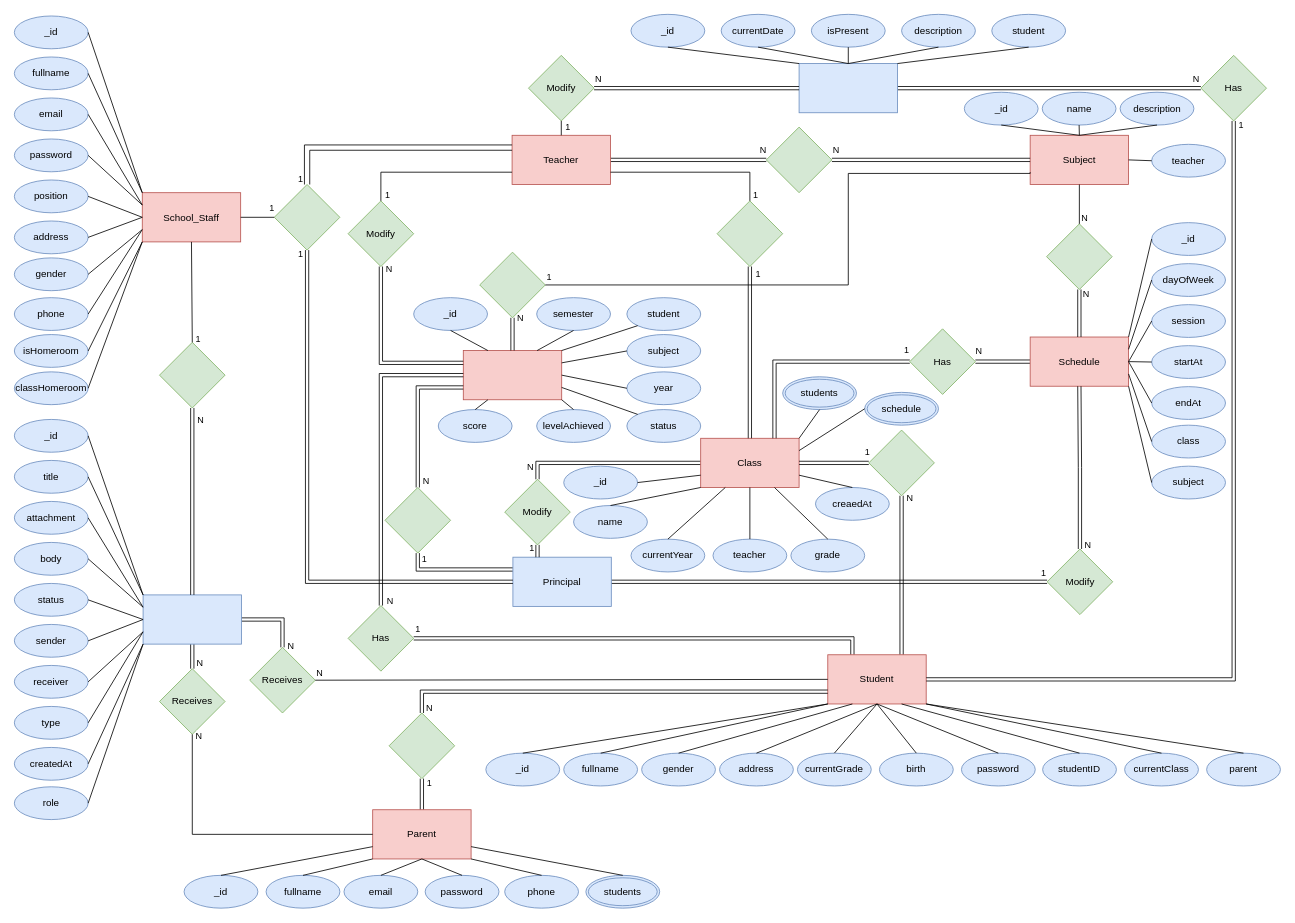
Some shapes in this 1295 by 923 pixel diagram are drawn without their labels. The box of each missing label's shape, as (x1, y1, x2, y2) in pixels:
Announcement: (142, 594, 241, 644)
Attendance: (798, 63, 897, 113)
Belong: (479, 251, 545, 318)
Enroll: (868, 429, 934, 496)
Is A: (273, 184, 340, 250)
Manages: (388, 712, 455, 779)
Organizes: (1046, 223, 1112, 289)
Score Sheet: (462, 350, 562, 400)
Sends: (159, 342, 225, 408)
Takes: (716, 200, 783, 266)
Teaches: (765, 126, 832, 193)
Verify: (384, 487, 451, 553)
